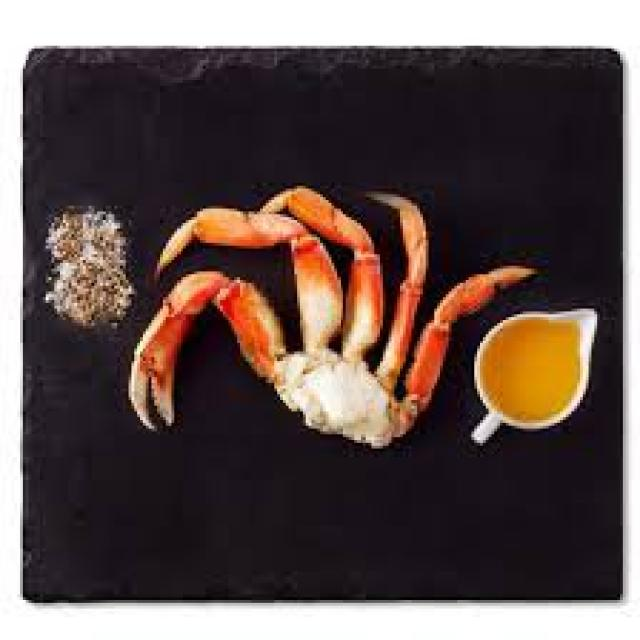crab: (114, 201, 494, 423)
